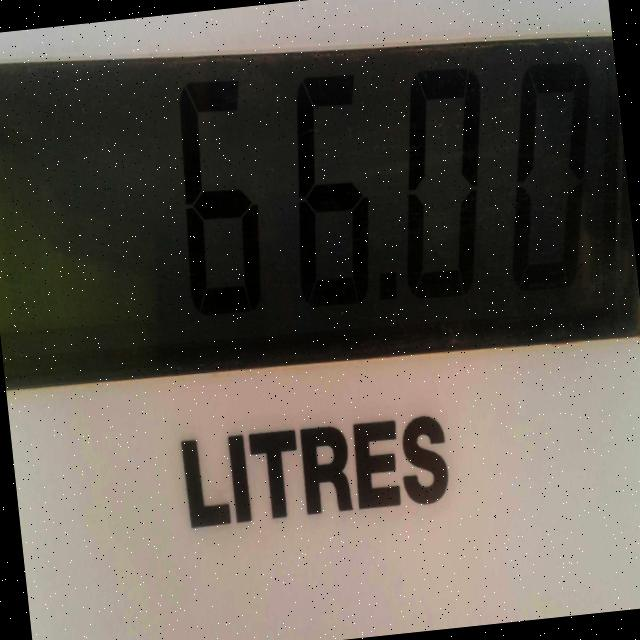.: (374, 248, 416, 320)
0: (379, 48, 512, 335)
6: (156, 46, 290, 354), (268, 60, 401, 332)
